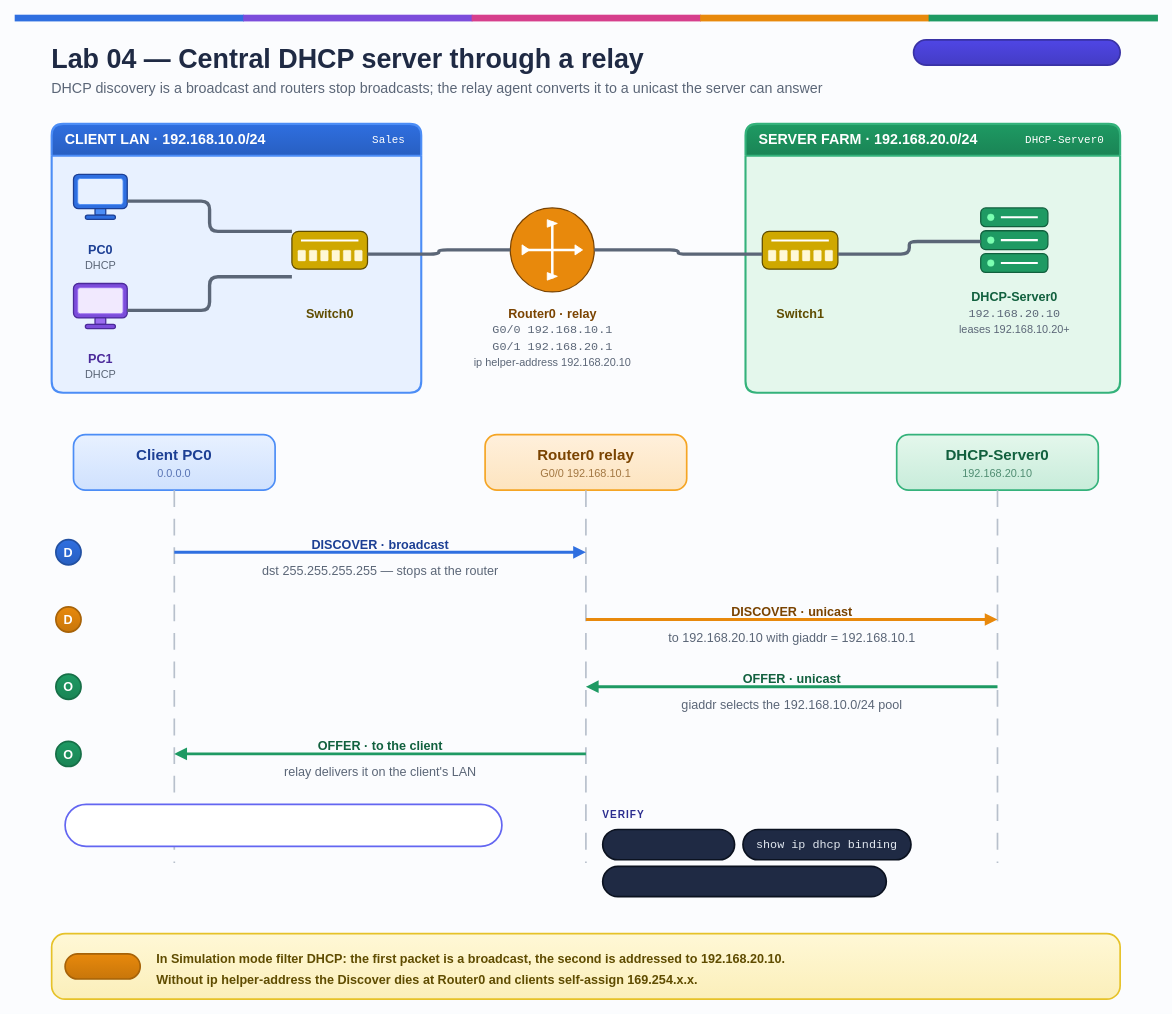
This 1172x1014 diagram has some shape labels left out. The centre of each missing label's shape, as x and y in pixels:
"ipconfig /renew" belongs at [668,844].
"LAB 04 · PACKET TRACER LAB" belongs at [1016,52].
"OBSERVE" belongs at [102,966].
"REQUEST and ACK follow the same relayed path" belongs at [283,825].
"show running-config | include helper" belongs at [744,881].
